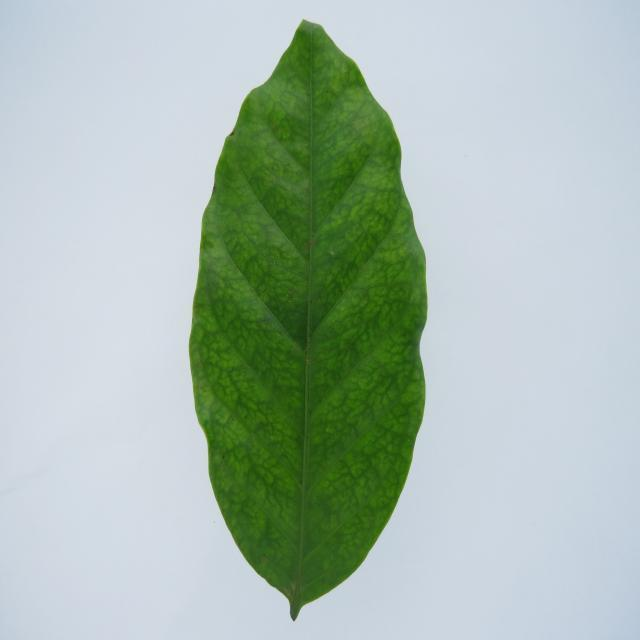DeficienciaNutricional-Hierro: (190, 22, 428, 620)
